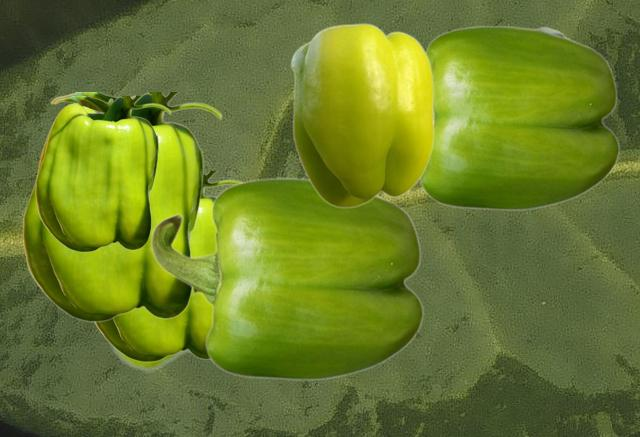bell_pepper: (150, 177, 423, 380), (22, 92, 221, 321), (420, 25, 619, 210), (93, 171, 240, 361), (290, 22, 433, 207), (35, 96, 170, 251), (98, 331, 196, 371)
